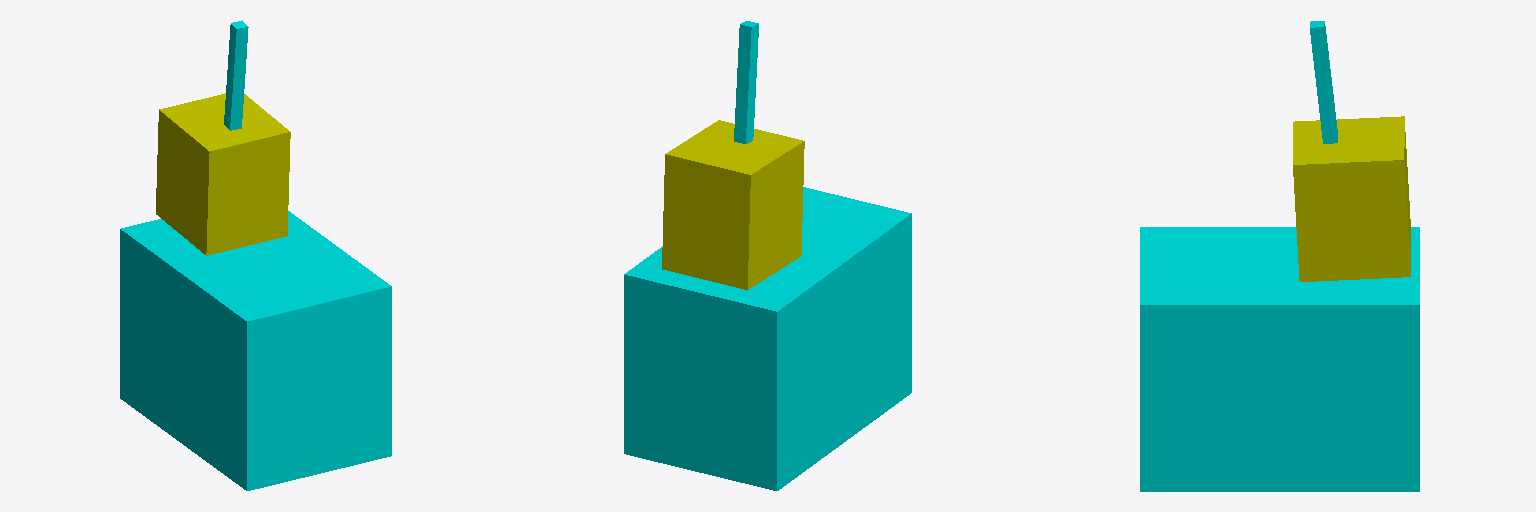
URDF robot description (real_pantilt):
<?xml version="1.0"?>
<!--
    CALIBRATED real_pantilt URDF
    Generated by ptu_calib_cpp
    Pan  encoder zero offset: 0.001108 rad (0.063498 deg)
    Tilt encoder zero offset: 0.091797 rad (5.259582 deg)
-->
<robot name="real_pantilt" xmlns:xacro="http://ros.org/wiki/xacro">

    <link name="map">
        <inertial>
            <mass value="0.001" />
            <origin xyz="0 0 0" rpy="0 0 0" />
            <inertia ixx="0.0001" ixy="0" ixz="0" iyy="0.0001" iyz="0" izz="0.0001" />
        </inertial>
    </link>

    <link name="base_link">
        <visual>
            <origin xyz="0.0 -0.05 0.035" rpy="0 0 0" />
            <geometry><box size="0.0625 0.095 0.07" /></geometry>
            <material name="Cyan1"><color rgba="0 0.9 0.9 1.0" /></material>
        </visual>
        <inertial>
            <mass value="1" />
            <origin xyz="0 0 0" rpy="0 0 0" />
            <inertia ixx="0.01" ixy="0" ixz="0" iyy="0.01" iyz="0" izz="0.01" />
        </inertial>
    </link>

    <joint name="map_to_base" type="fixed">
        <origin xyz="0 0 0" rpy="0 0 0" />
        <parent link="map" />
        <child link="base_link" />
    </joint>

    <link name="pan_link">
        <visual>
            <origin xyz="0 0 0" rpy="0 0 0" />
            <geometry><box size="0.035 0.038 0.044" /></geometry>
            <material name="Yellow2"><color rgba="0.8 0.8 0 1.0" /></material>
        </visual>
        <inertial>
            <mass value="0.50" />
            <origin xyz="0 0 0" rpy="0 0 0" />
            <inertia ixx="0.01" ixy="0" ixz="0" iyy="0.01" iyz="0" izz="0.01" />
        </inertial>
    </link>

    <!-- CALIBRATED joint2 (pan): base_link -> pan_link -->
    <joint name="joint2" type="revolute">
        <parent link="base_link" />
        <child link="pan_link" />
        <origin xyz="0.000000 -0.025500 0.095000"
                rpy="0.052360 0.000860 -0.001166" />
        <axis xyz="0 0 -1" />
        <limit effort="10" lower="-3.1416" upper="3.1416" velocity="3" />
        <dynamics damping="1.0" />
    </joint>

    <link name="tilt_link">
        <visual>
            <origin xyz="-0.022 0 0" rpy="0 -1.57 0" />
            <geometry><box size="0.005 0.005 0.044" /></geometry>
            <material name="Cyan1"><color rgba="0 0.9 0.9 1.0" /></material>
        </visual>
        <inertial>
            <mass value="0.20" />
            <origin xyz="0 0 0" rpy="0 0 0" />
            <inertia ixx="0.01" ixy="0" ixz="0" iyy="0.01" iyz="0" izz="0.01" />
        </inertial>
    </link>

    <!-- CALIBRATED joint1 (tilt): pan_link -> tilt_link -->
    <!-- NOTE: nominal pitch~pi/2 => RPY is near gimbal lock; values are correct -->
    <!-- Corrections: dt=(-0.000373, 0.002930, -0.000000)m  dr=(2.545179, 0.279720, 3.000000)deg -->
    <joint name="joint1" type="revolute">
        <parent link="pan_link" />
        <child link="tilt_link" />
        <origin xyz="-0.000001 -0.006070 0.022373"
                rpy="1.693000 1.518278 1.648727" />
        <axis xyz="0 0 1" />
        <limit effort="10" lower="-0.8727" upper="0.8727" velocity="3" />
        <dynamics damping="1.0" />
    </joint>

    <link name="laser">
        <visual>
            <origin xyz="0.0 0.0 -0.059" rpy="1.57 0 0" />
            <geometry>
                <mesh filename="/home/isl9/dev/mert/hokuyo_ws/src/hokuyo_go/urdf/meshes/URG-04LX.dae" scale="0.001 0.001 0.001" />
            </geometry>
            <material name="Cyan1"><color rgba="0 0.9 0.9 1.0" /></material>
        </visual>
        <inertial>
            <mass value="0.16" />
            <origin xyz="0 0 0" rpy="0 0 0" />
            <inertia ixx="0.001" ixy="0" ixz="0" iyy="0.001" iyz="0" izz="0.001" />
        </inertial>
    </link>

    <!-- CALIBRATED laser mount: tilt_link -> laser (collapsed from hokuyo_base_joint + hokuyo_joint) -->
    <joint name="hokuyo_joint" type="fixed">
        <parent link="tilt_link" />
        <child link="laser" />
        <origin xyz="-0.106000 0.014000 0.040000"
                rpy="-1.571593 0.001593 1.571593" />
        <dynamics damping="1.0" />
    </joint>

</robot>

--- What the picture shows (computed from the rendered views, not written in the file) ---
Views: 3 orthographic renders of the robot side by side, from view 1: azimuth 30°, elevation 25°; view 2: azimuth 150°, elevation 25°; view 3: azimuth 270°, elevation 25°.
Robot: real_pantilt — 5 links, 4 joints (2 revolute, 2 fixed); root link map; default pose: all joints at 0.
Visible links, largest first — view 1: base_link, pan_link, tilt_link; view 2: base_link, pan_link, tilt_link; view 3: base_link, pan_link, tilt_link.
Boxes of the visible links, x1=… form: base_link: x1=120, y1=211, x2=391, y2=490; pan_link: x1=156, y1=93, x2=290, y2=255; tilt_link: x1=224, y1=20, x2=248, y2=130; base_link: x1=624, y1=187, x2=911, y2=490; pan_link: x1=662, y1=120, x2=804, y2=289; tilt_link: x1=734, y1=21, x2=758, y2=143; base_link: x1=1140, y1=227, x2=1419, y2=491; pan_link: x1=1293, y1=116, x2=1410, y2=281; tilt_link: x1=1310, y1=21, x2=1337, y2=143.
Bounding box of the posed robot: 0.0625 × 0.095 × 0.1611 m (x, y, z).
Geometry: only primitive shapes (box / cylinder / sphere) drawn; not drawn: 1 mesh visual (reference in a form the renderer does not follow).
